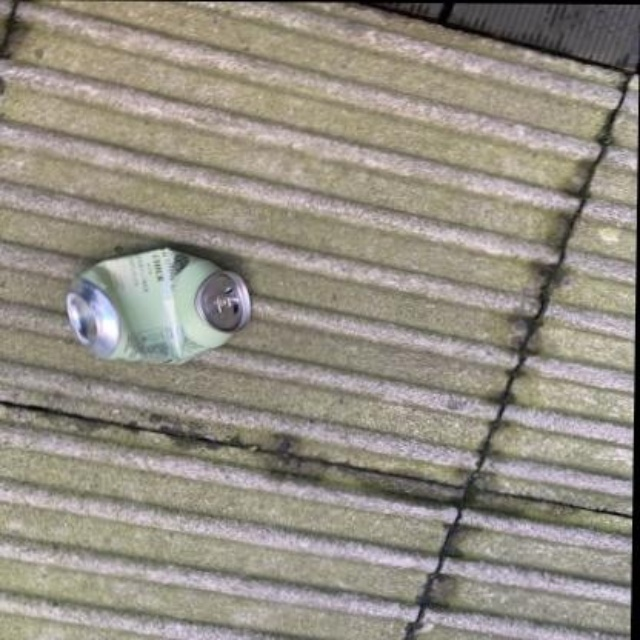trash: (66, 248, 249, 362)
